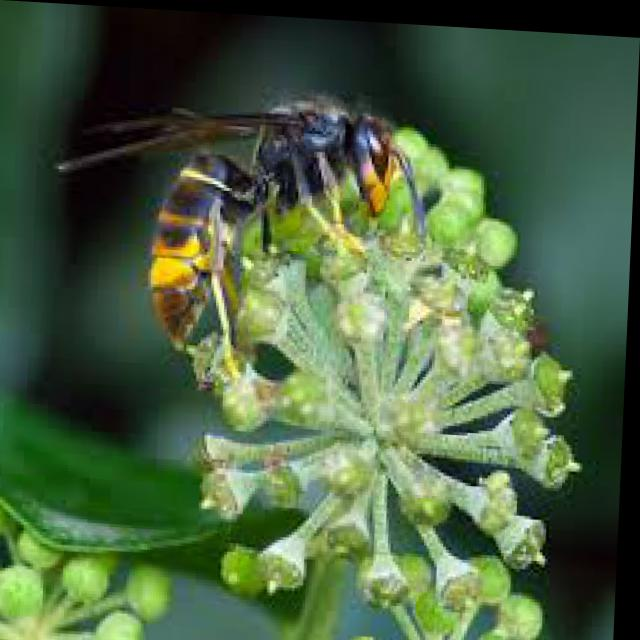Vespa Velutina: (49, 74, 439, 392)
